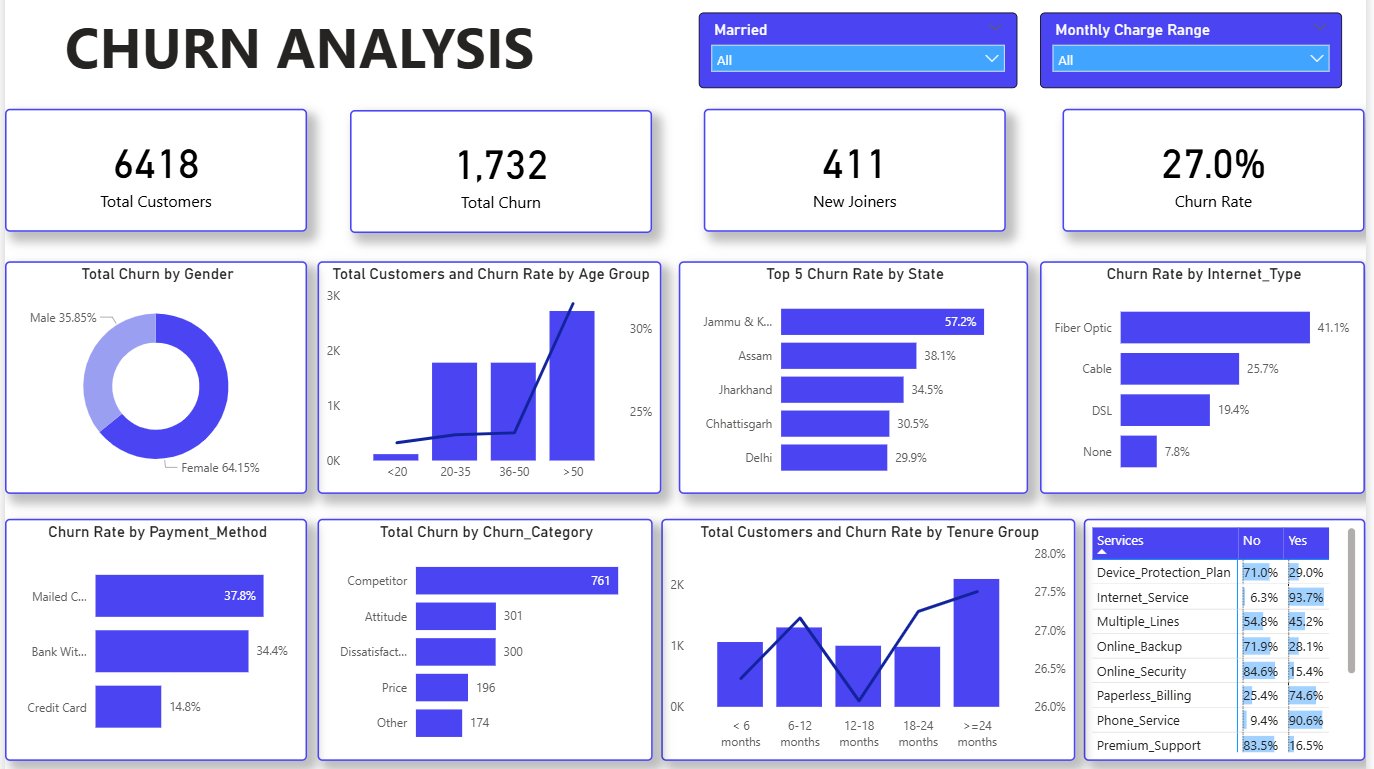

What the dashboard file says about the page in this screenshot:
{"tool":"powerbi","page":{"name":"Summary","canvas":[1380,820],"ordinal":0},"visuals":[{"type":"card","fields":{"Values":["Measure_churn.Total Customers"]},"box":[0,120.9,306.4,125],"z":0},{"type":"donutChart","fields":{"Category":["prod_churn.Gender"],"Y":["Measure_churn.Total Churn"]},"box":[0,274.8,306.4,236.3],"z":1000},{"type":"lineStackedColumnComboChart","fields":{"Category":["mapping_AgeGrp.Age Group"],"Y":["Measure_churn.Total Customers"],"Y2":["Measure_churn.Churn Rate"]},"box":[317.4,274.8,349,236.3],"z":2000},{"type":"clusteredBarChart","fields":{"Category":["prod_churn.Payment_Method"],"Y":["Measure_churn.Churn Rate"]},"box":[0,535.9,306.4,245.9],"z":3000},{"type":"pivotTable","fields":{"Rows":["prod_services.Services"],"Columns":["prod_services.Status"],"Values":["Sum(prod_services.Churn Status)"]},"box":[1094.1,536.3,285.3,246],"z":4000},{"type":"lineStackedColumnComboChart","fields":{"Category":["mapping_TenureGrp.Tenure Group"],"Y":["Measure_churn.Total Customers"],"Y2":["Measure_churn.Churn Rate"]},"box":[665.6,536.3,419.6,246],"z":5000},{"type":"clusteredBarChart","title":"Top 5 Churn Rate by State","fields":{"Category":["prod_churn.State"],"Y":["Measure_churn.Churn Rate"]},"box":[682.9,274.8,354.5,236.3],"z":6000},{"type":"clusteredBarChart","fields":{"Category":["prod_churn.Churn_Category"],"Y":["Measure_churn.Total Churn"]},"box":[316.9,536.3,339.8,246],"z":7000},{"type":"clusteredBarChart","fields":{"Category":["prod_churn.Internet_Type"],"Y":["Measure_churn.Churn Rate"]},"box":[1049.7,274.8,329.8,236.3],"z":8000},{"type":"slicer","fields":{"Values":["prod_churn.Monthly Charge Status"]},"box":[1049.7,23.4,306.4,76.9],"z":9000},{"type":"slicer","fields":{"Values":["prod_churn.Married"]},"box":[703.5,23.4,322.9,76.9],"z":10000},{"type":"textbox","box":[55.8,13.9,554,86.2],"z":11000},{"type":"card","fields":{"Values":["Measure_churn.Total Churn"]},"box":[350.4,122.3,306.4,125],"z":12000},{"type":"card","fields":{"Values":["Measure_churn.New Joiners"]},"box":[709,120.9,306.4,125],"z":13000},{"type":"card","fields":{"Values":["Measure_churn.Churn Rate"]},"box":[1073.1,120.9,306.4,125],"z":14000}]}

Visuals, with their boxes on the page's 1380x820 design canvas (x1, y1, x2, y2). These are canvas units, not pixel positions in the 1374x769 screenshot, which may show the page scaled, cropped or inside an application window:
card - Measure_churn.Total Customers: 0, 121, 306, 246
donutChart - prod_churn.Gender x Measure_churn.Total Churn: 0, 275, 306, 511
lineStackedColumnComboChart - mapping_AgeGrp.Age Group x Measure_churn.Total Customers: 317, 275, 666, 511
clusteredBarChart - prod_churn.Payment_Method x Measure_churn.Churn Rate: 0, 536, 306, 782
pivotTable - prod_services.Services x prod_services.Status: 1094, 536, 1379, 782
lineStackedColumnComboChart - mapping_TenureGrp.Tenure Group x Measure_churn.Total Customers: 666, 536, 1085, 782
"Top 5 Churn Rate by State" clusteredBarChart: 683, 275, 1037, 511
clusteredBarChart - prod_churn.Churn_Category x Measure_churn.Total Churn: 317, 536, 657, 782
clusteredBarChart - prod_churn.Internet_Type x Measure_churn.Churn Rate: 1050, 275, 1380, 511
slicer - prod_churn.Monthly Charge Status: 1050, 23, 1356, 100
slicer - prod_churn.Married: 704, 23, 1026, 100
textbox: 56, 14, 610, 100
card - Measure_churn.Total Churn: 350, 122, 657, 247
card - Measure_churn.New Joiners: 709, 121, 1015, 246
card - Measure_churn.Churn Rate: 1073, 121, 1380, 246
